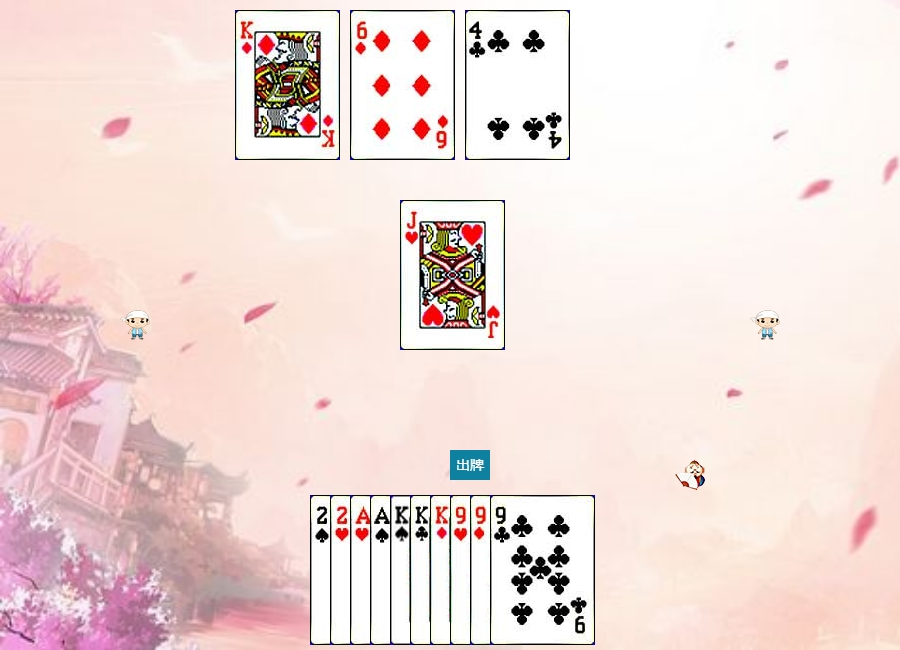11~3: (400, 200, 505, 350)
13~1: (235, 10, 340, 160), (430, 495, 535, 645)
13~2: (410, 495, 515, 645)
13~4: (390, 495, 495, 645)
14~3: (350, 495, 455, 645)
14~4: (370, 495, 475, 645)
15~3: (330, 495, 435, 645)
15~4: (310, 495, 415, 645)
4~2: (465, 10, 570, 160)
6~1: (350, 10, 455, 160)
9~1: (470, 495, 575, 645)
9~2: (490, 495, 595, 645)
9~3: (450, 495, 555, 645)
